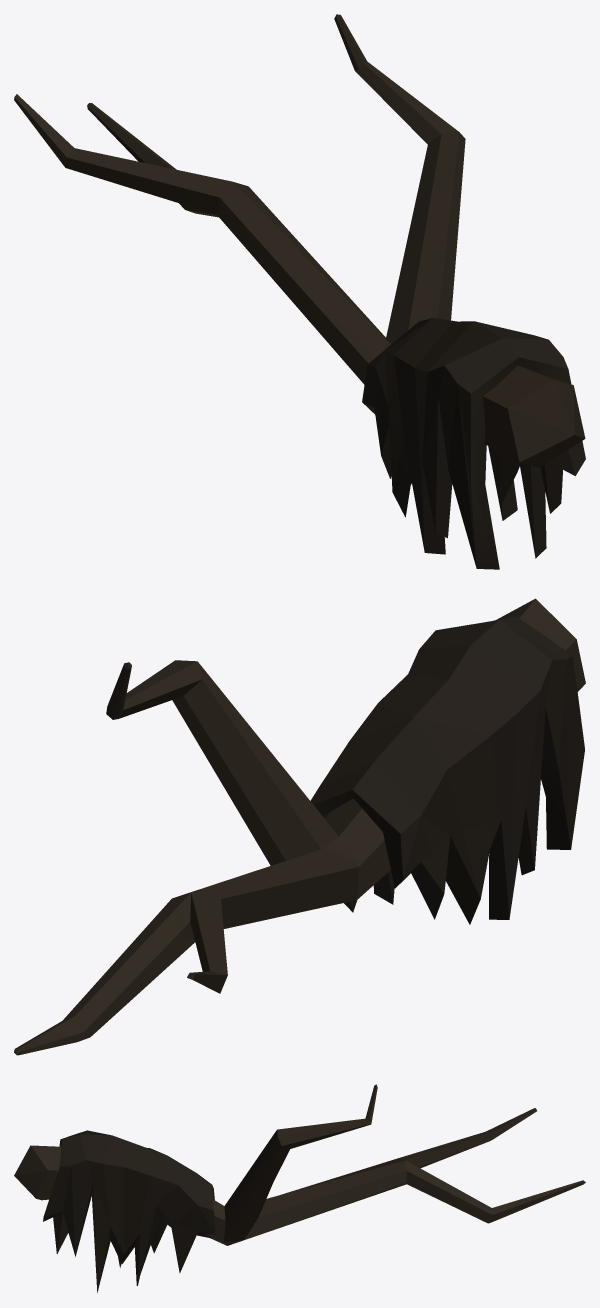
Rendered from synty-tree-swamp-branch-01.gltf.
The picture shows the model from 3 angles, top to bottom: view 1: azimuth 30°, elevation 25°; view 2: azimuth 150°, elevation 25°; view 3: azimuth 270°, elevation 25°; orthographic projection. The views are drawn at different scales.
Parts seen in each view (by area): view 1: SM_Tree_Swamp_Branch_01; view 2: SM_Tree_Swamp_Branch_01; view 3: SM_Tree_Swamp_Branch_01.
Part boxes in pixels (x1,y1,x2,y2): SM_Tree_Swamp_Branch_01: [14, 14, 585, 569]; SM_Tree_Swamp_Branch_01: [14, 598, 585, 1055]; SM_Tree_Swamp_Branch_01: [14, 1084, 585, 1292].
Bounding box in the file's own units: 0.5219 × 0.7593 × 1.8.
Materials: 1 (1 with a texture image).
